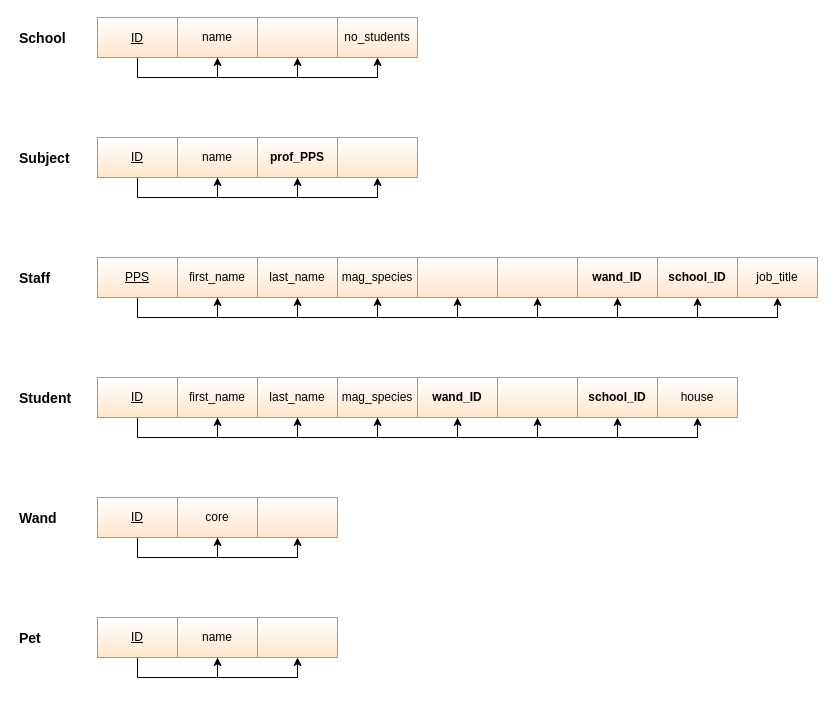
Some shapes in this 835 by 703 pixel diagram are drawn without their labels. The box of each missing label's shape, as (x1, y1, x2, y2) in pixels:
location: (256, 16, 338, 58)
office_no: (496, 256, 578, 298)
pet_ID: (496, 376, 578, 418)
room_no: (336, 136, 418, 178)
species: (256, 616, 338, 658)
subject_ID: (416, 256, 498, 298)
wood_type: (256, 496, 338, 538)
